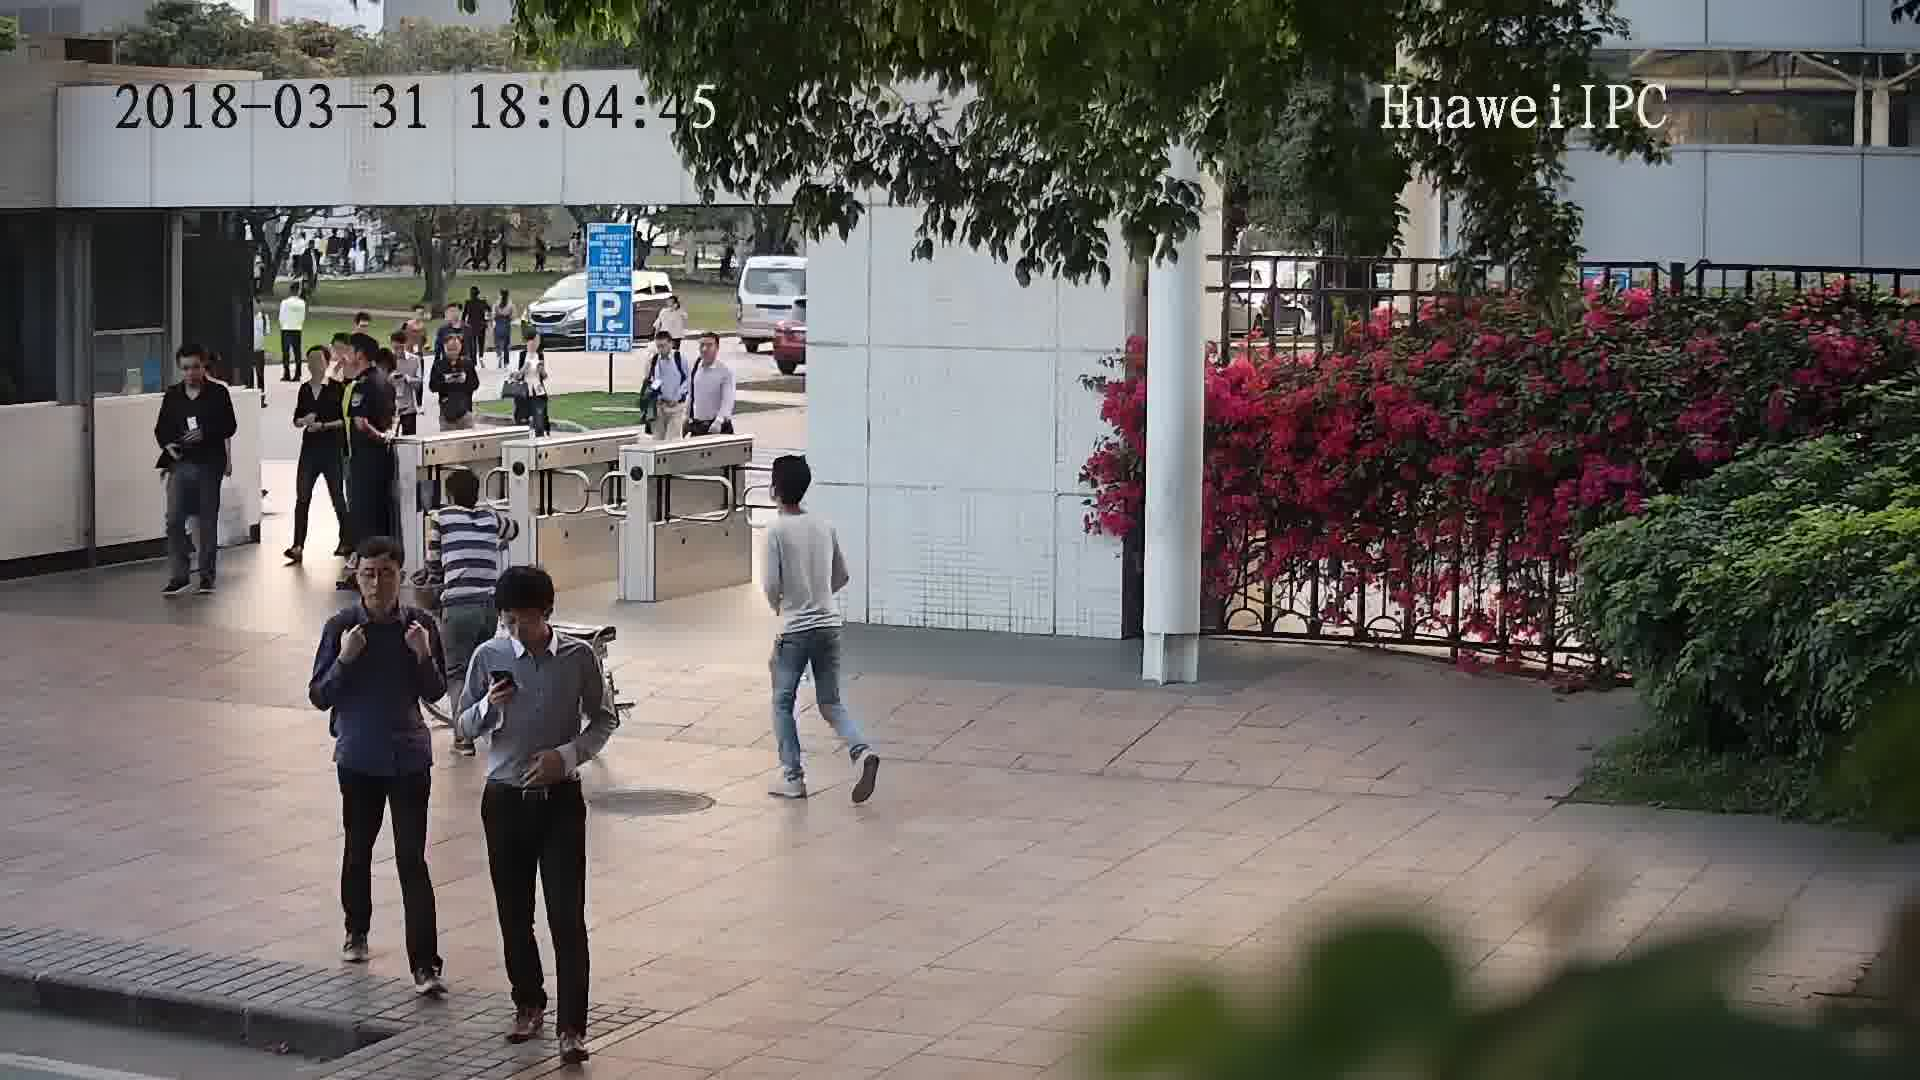face: (349, 551, 408, 610)
person: (476, 563, 598, 678), (323, 532, 439, 646), (761, 448, 836, 542), (428, 466, 505, 541), (156, 341, 234, 413), (297, 339, 344, 399), (343, 334, 385, 398), (692, 330, 735, 384), (431, 333, 477, 379), (385, 326, 423, 374), (650, 325, 690, 370), (437, 299, 476, 335), (327, 333, 361, 373), (517, 326, 548, 364), (656, 294, 685, 327), (402, 301, 429, 334), (490, 283, 517, 317), (280, 280, 309, 308), (463, 286, 494, 312)
